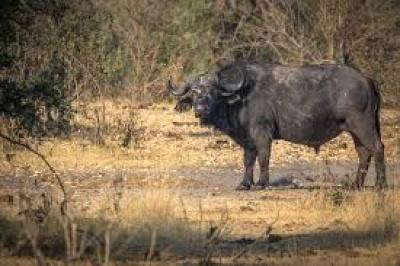buffalo: (168, 56, 385, 189)
